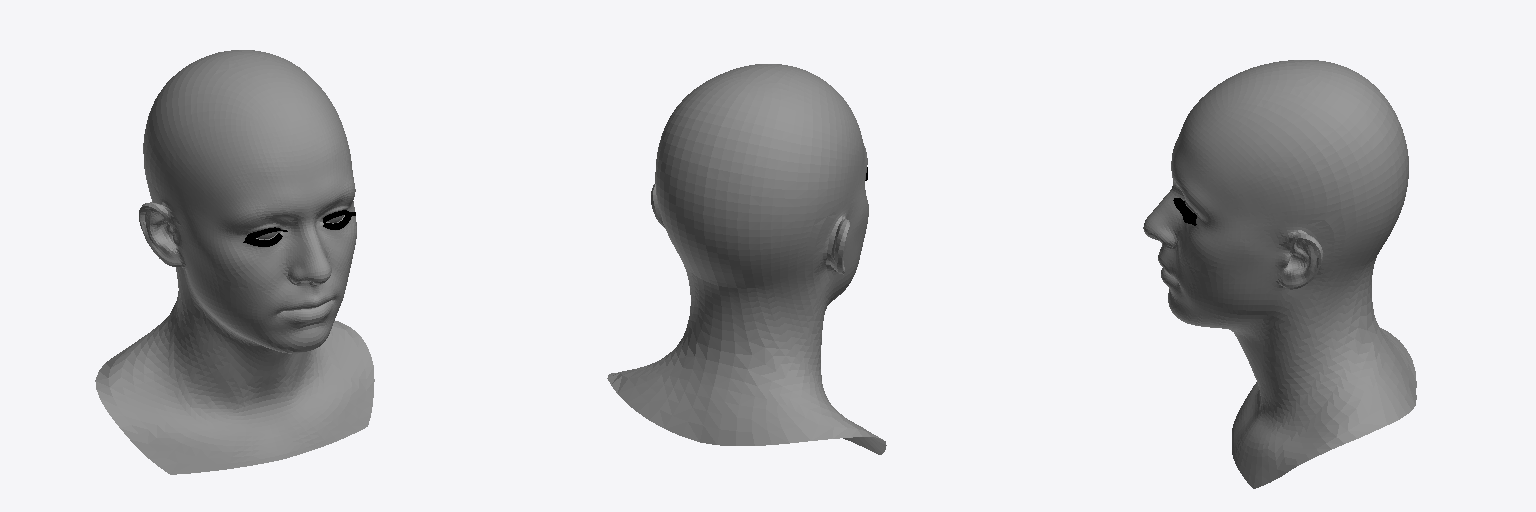
File: identity035.obj
3 views of the same model, side by side, from view 1: azimuth 30°, elevation 25°; view 2: azimuth 150°, elevation 25°; view 3: azimuth 270°, elevation 25° (orthographic).
Size of the model in its own units: 24.74 by 33.78 by 22.4.